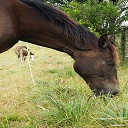caballo: (0, 0, 120, 103), (14, 44, 33, 63)
